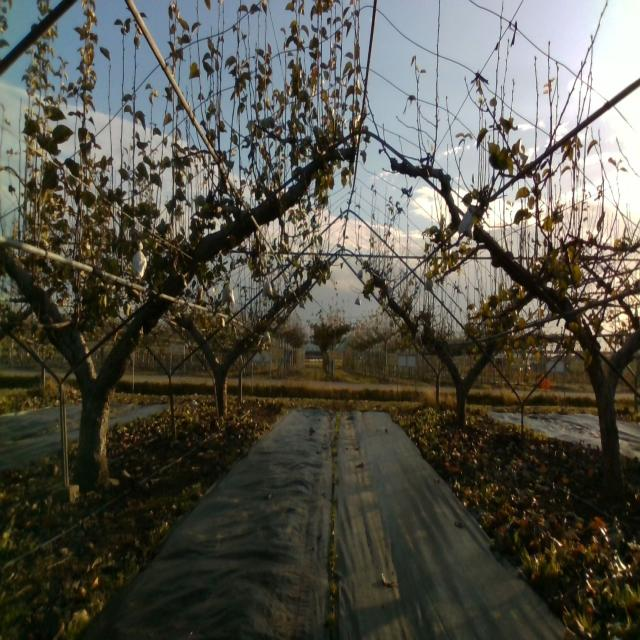pearbags: (458, 207, 478, 242), (131, 241, 147, 277), (221, 279, 235, 306), (262, 278, 274, 298)
